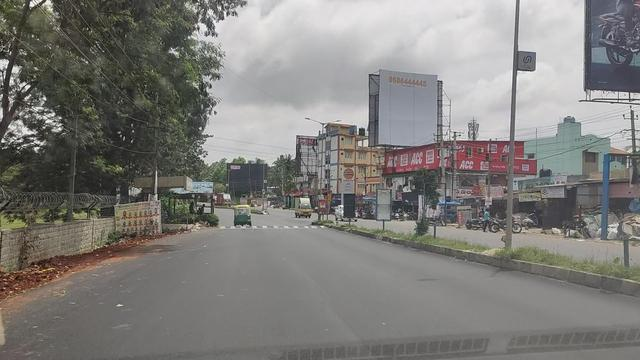LMV: (235, 205, 251, 226)
SpeedBump: (225, 224, 323, 231)
